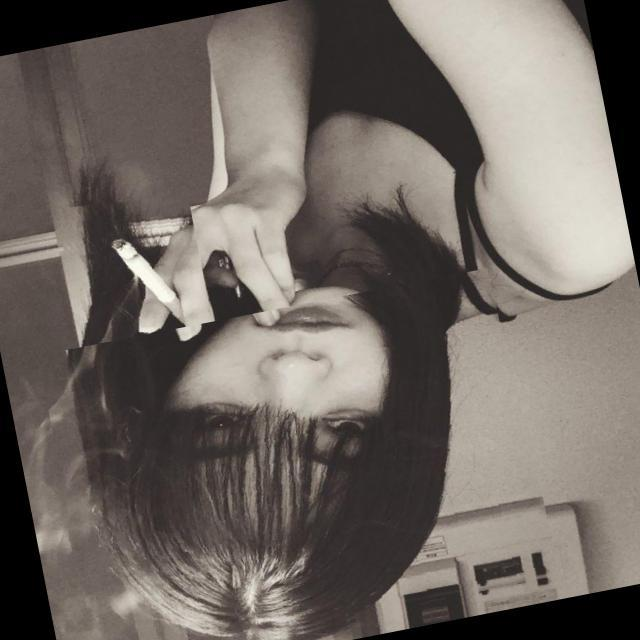cigarette: (54, 184, 214, 349)
